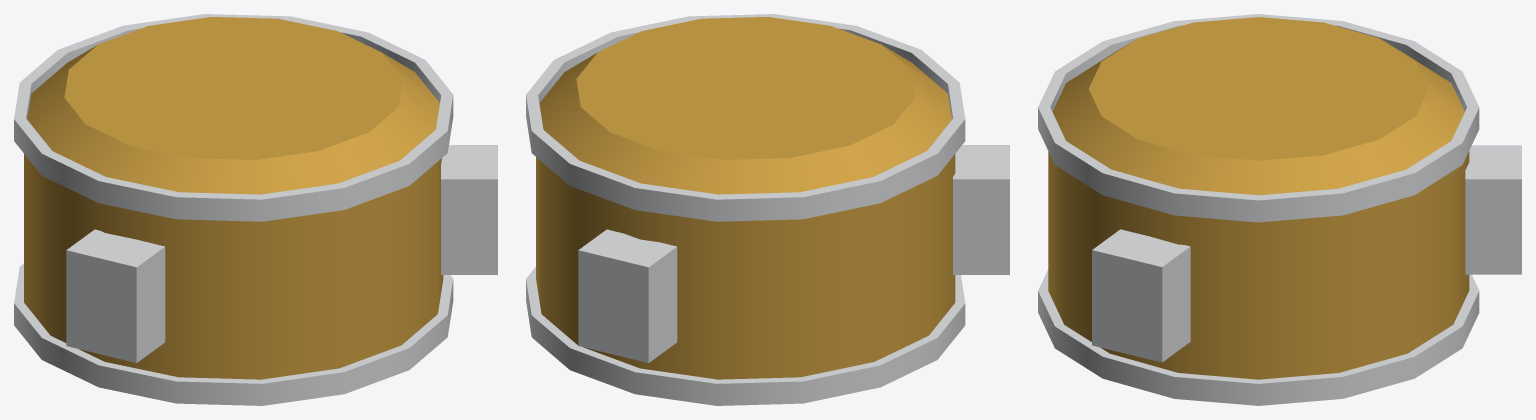
3 renders of one model, left to right at view 1: azimuth 30°, elevation 25°; view 2: azimuth 150°, elevation 25°; view 3: azimuth 270°, elevation 25°, orthographic.
Visible parts, largest first — view 1: pa100_rx; view 2: pa100_rx; view 3: pa100_rx.
Part boxes in pixels (bbox=[...]): pa100_rx: bbox=[14, 14, 497, 405]; pa100_rx: bbox=[526, 14, 1009, 405]; pa100_rx: bbox=[1038, 14, 1521, 405].
Bounding box in the file's own units: 1.23 × 0.66 × 1.19.
